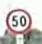limite 50: (4, 7, 32, 34)
